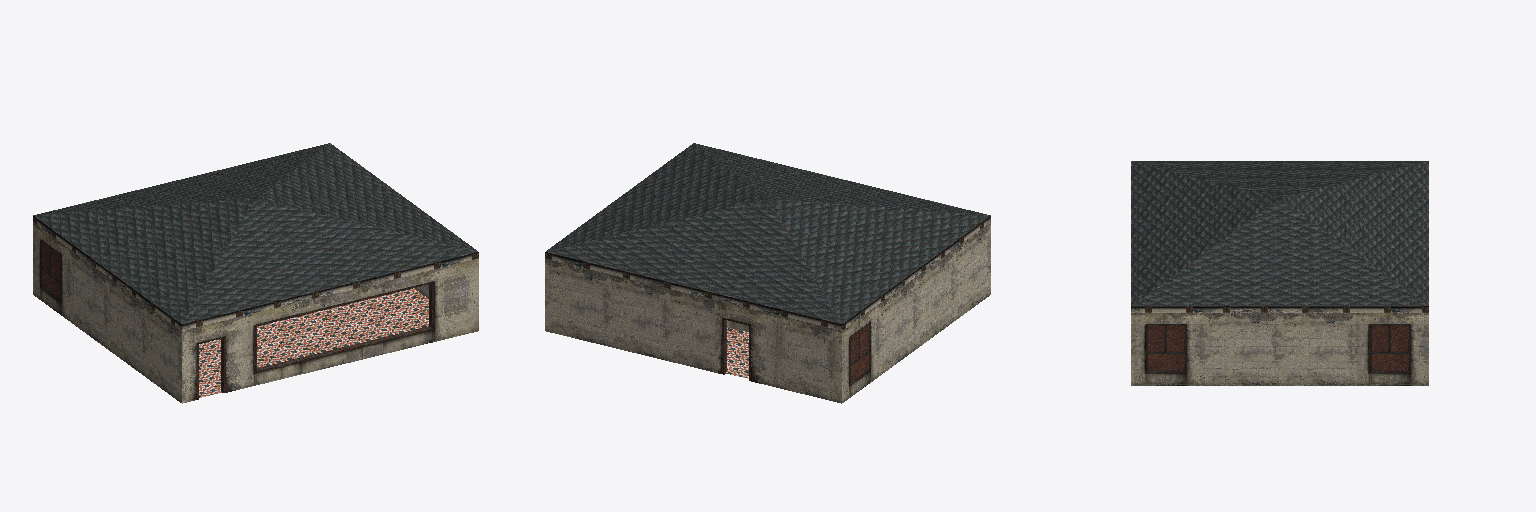
The picture shows the model from 3 angles: view 1: azimuth 30°, elevation 25°; view 2: azimuth 150°, elevation 25°; view 3: azimuth 270°, elevation 25°; orthographic projection.
Visible parts, largest first — view 1: SCafeRoof-00.SCafeRoof-00_SCafeRoof-00, SCafeExteriorShell-00.SCafeExteriorShell-00_SCafeExteriorShell-0, Plane; view 2: SCafeRoof-00.SCafeRoof-00_SCafeRoof-00, SCafeExteriorShell-00.SCafeExteriorShell-00_SCafeExteriorShell-0, Plane; view 3: SCafeRoof-00.SCafeRoof-00_SCafeRoof-00, SCafeExteriorShell-00.SCafeExteriorShell-00_SCafeExteriorShell-0.
Boxes of the visible parts, <box> form: SCafeRoof-00.SCafeRoof-00_SCafeRoof-00: <box>33,143,478,330</box>; SCafeExteriorShell-00.SCafeExteriorShell-00_SCafeExteriorShell-0: <box>33,222,478,403</box>; Plane: <box>199,288,428,397</box>; SCafeRoof-00.SCafeRoof-00_SCafeRoof-00: <box>545,143,990,330</box>; SCafeExteriorShell-00.SCafeExteriorShell-00_SCafeExteriorShell-0: <box>545,222,990,403</box>; Plane: <box>726,327,748,378</box>; SCafeRoof-00.SCafeRoof-00_SCafeRoof-00: <box>1131,161,1428,312</box>; SCafeExteriorShell-00.SCafeExteriorShell-00_SCafeExteriorShell-0: <box>1131,313,1428,385</box>.
Size of the model in its own units: 2 by 0.738 by 1.73.
Materials: 48 (44 with a texture image).